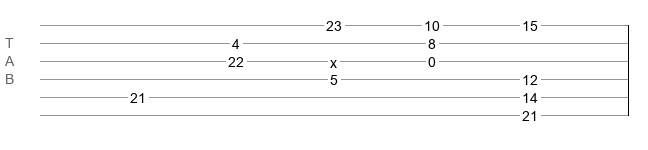0: (428, 54, 436, 64)
10: (424, 18, 440, 28)
12: (522, 72, 538, 82)
14: (522, 90, 538, 100)
15: (522, 18, 538, 28)
21: (130, 90, 146, 100), (522, 108, 538, 118)
22: (228, 54, 244, 64)
23: (326, 18, 342, 28)
4: (232, 36, 240, 46)
5: (330, 72, 338, 82)
8: (428, 36, 436, 46)
x: (330, 55, 337, 63)
